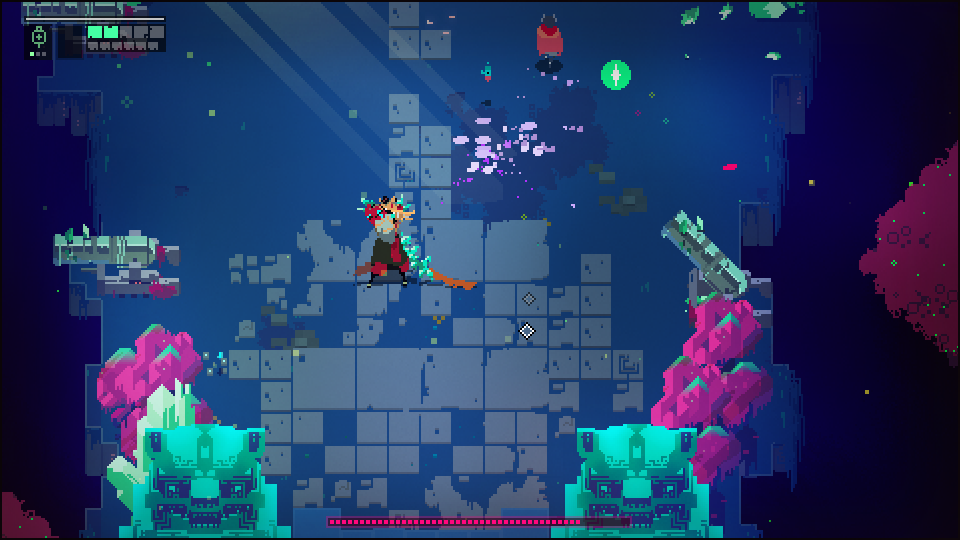hanged_man: (355, 189, 443, 293)
hanged_shot: (597, 57, 633, 93)
player: (534, 11, 563, 70)
